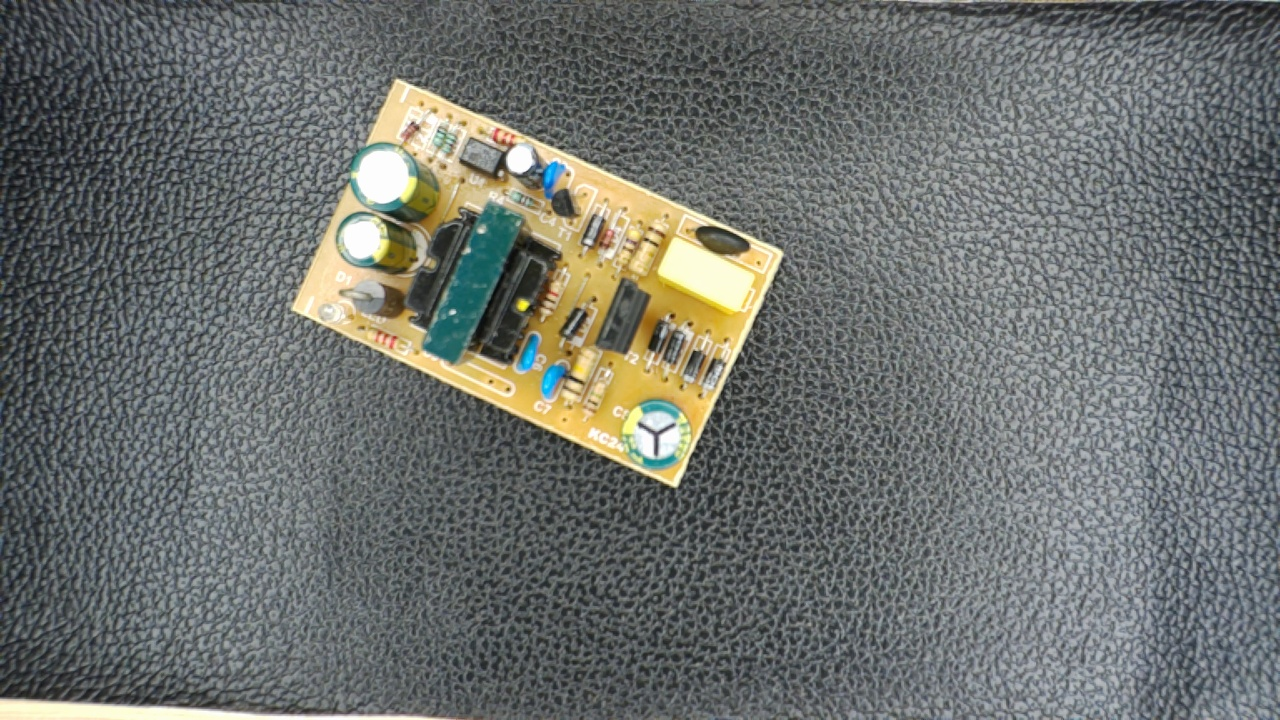fuse: (680, 219, 755, 261)
hv_capacitor: (617, 395, 692, 473)
optocoupler: (455, 137, 512, 186)
